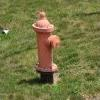a fire hydrant: (36, 12, 62, 78)
